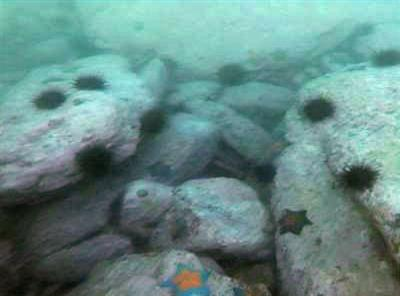urchin: (338, 160, 381, 195), (78, 141, 112, 175), (301, 95, 338, 125), (138, 106, 168, 138), (32, 88, 68, 110), (216, 61, 247, 85), (73, 72, 109, 92), (372, 47, 400, 70), (254, 162, 280, 183)
